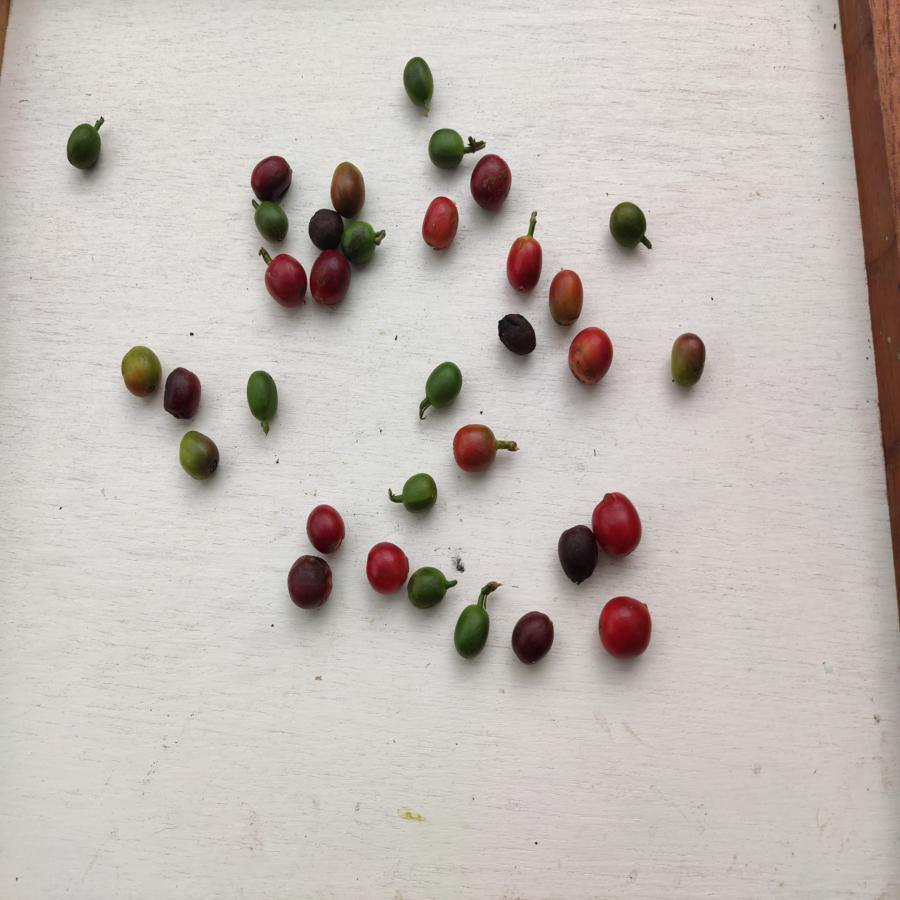Inmaduro: (452, 599, 491, 662), (422, 359, 466, 410), (244, 369, 282, 428), (64, 119, 104, 175), (609, 199, 647, 254), (402, 54, 436, 109), (408, 566, 449, 609), (252, 199, 291, 244), (343, 220, 381, 264), (428, 128, 464, 171), (401, 474, 441, 511)
Maduro: (599, 595, 654, 659), (594, 489, 643, 558), (568, 323, 614, 387), (265, 255, 307, 313), (453, 424, 501, 474), (364, 541, 409, 594), (304, 503, 348, 554), (418, 195, 459, 249), (508, 234, 541, 294)
Pinton: (119, 346, 163, 399), (329, 161, 369, 218), (548, 266, 586, 324), (180, 431, 221, 480)
Sobremaduro: (283, 555, 334, 609), (555, 525, 598, 585), (511, 611, 556, 664), (249, 153, 296, 203), (469, 154, 511, 207), (310, 251, 350, 306), (496, 311, 539, 358), (163, 366, 201, 419), (306, 206, 342, 249)
